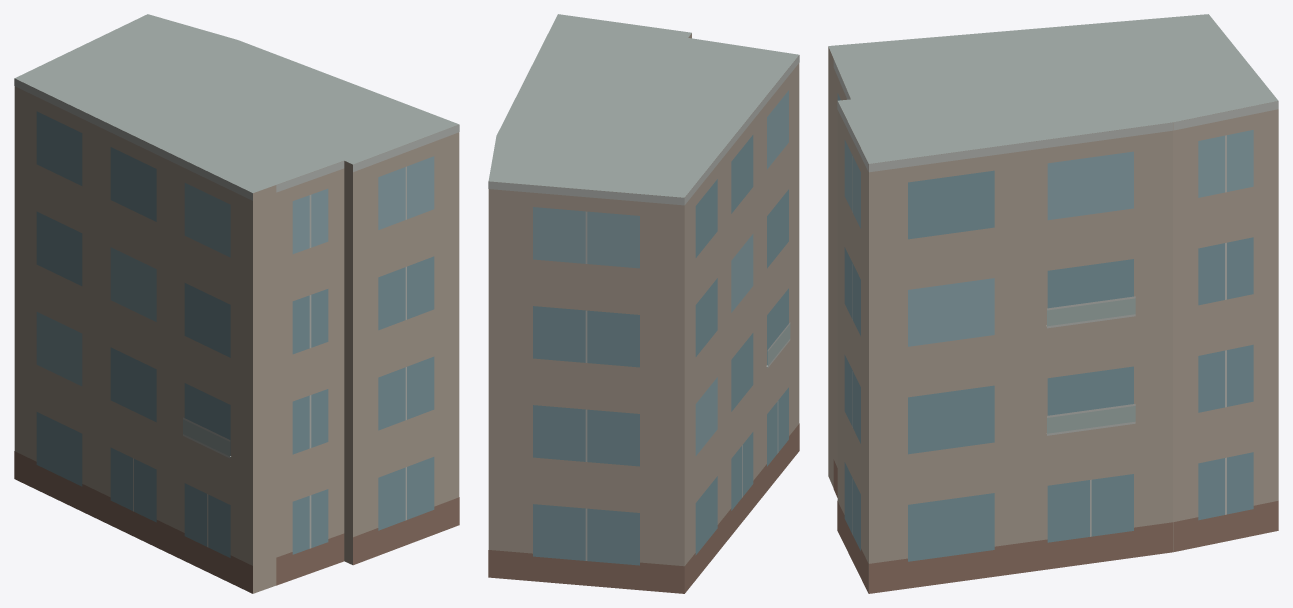
Rendered from survey-upis-32510336.glb.
3 views of the same model, side by side, from view 1: azimuth 30°, elevation 25°; view 2: azimuth 150°, elevation 25°; view 3: azimuth 270°, elevation 25° (orthographic). The views are drawn at different scales.
Parts seen in each view (by area): view 1: survey-upis-32510336.tmp; view 2: survey-upis-32510336.tmp; view 3: survey-upis-32510336.tmp.
Boxes of the visible parts, <box> form: survey-upis-32510336.tmp: <box>14,14,459,593</box>; survey-upis-32510336.tmp: <box>488,14,799,593</box>; survey-upis-32510336.tmp: <box>828,14,1278,593</box>.
Size of the model in its own units: 9.44 by 12.6 by 11.97.
